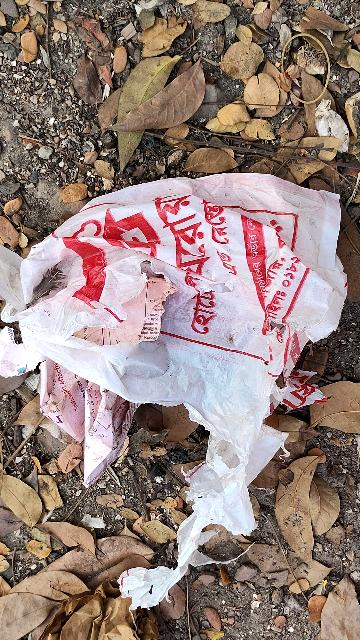polythene: (47, 178, 335, 442)
